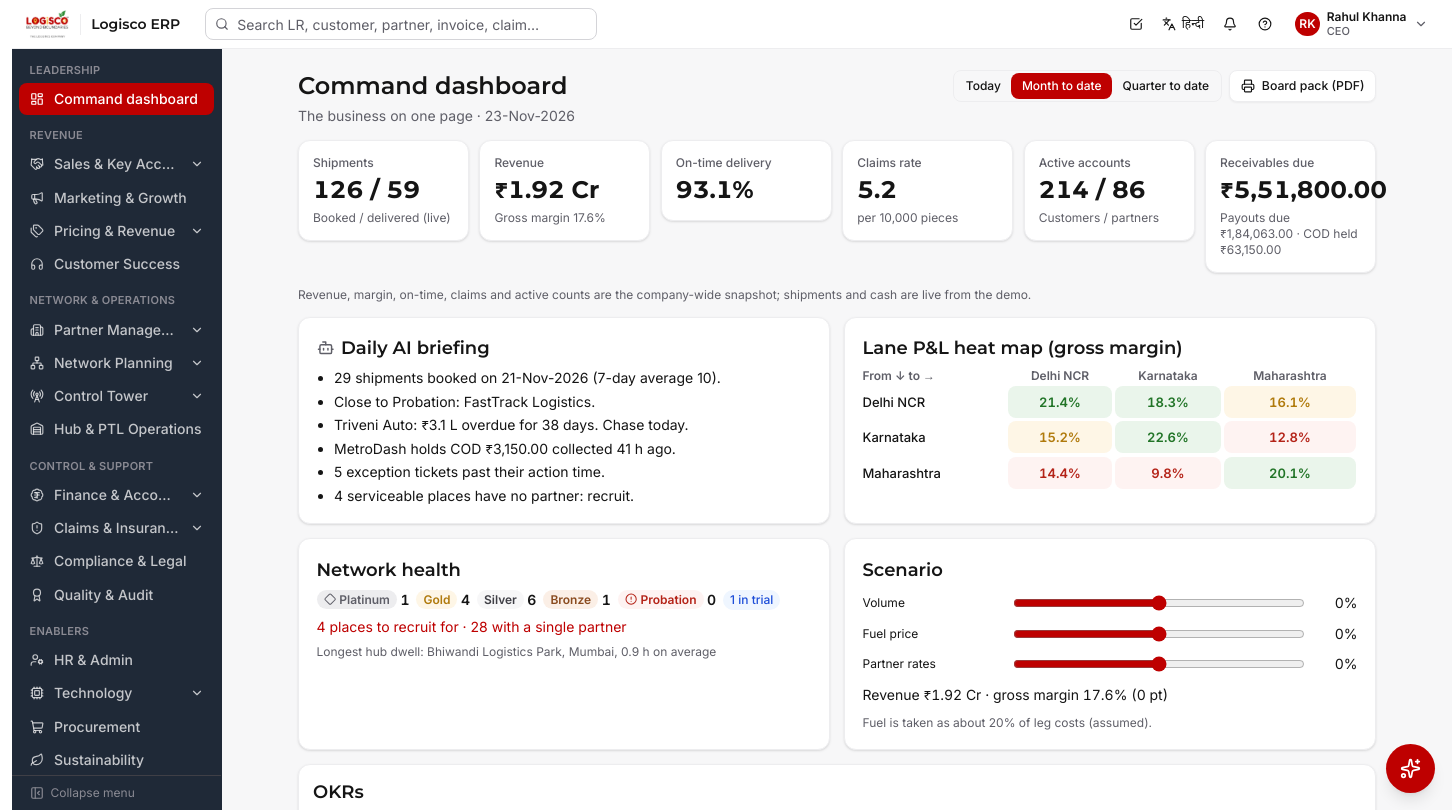
Test case: Leadership, Sales and the light departments › ERP-04: Rahul lands on the command dashboard; snapshot tiles, briefing, heat map, scenario
The width and height of the screenshot is (1452, 810).
expect the heading "Command dashboard" is shown: met, box x1=298 y1=70 x2=575 y2=102
expect the element with test id "kpis" shows "₹1.92 Cr": met, box x1=479 y1=140 x2=650 y2=272
Set the slider labelled "Fuel price" to "5" at (1194, 634), box x1=1013 y1=626 x2=1305 y2=642
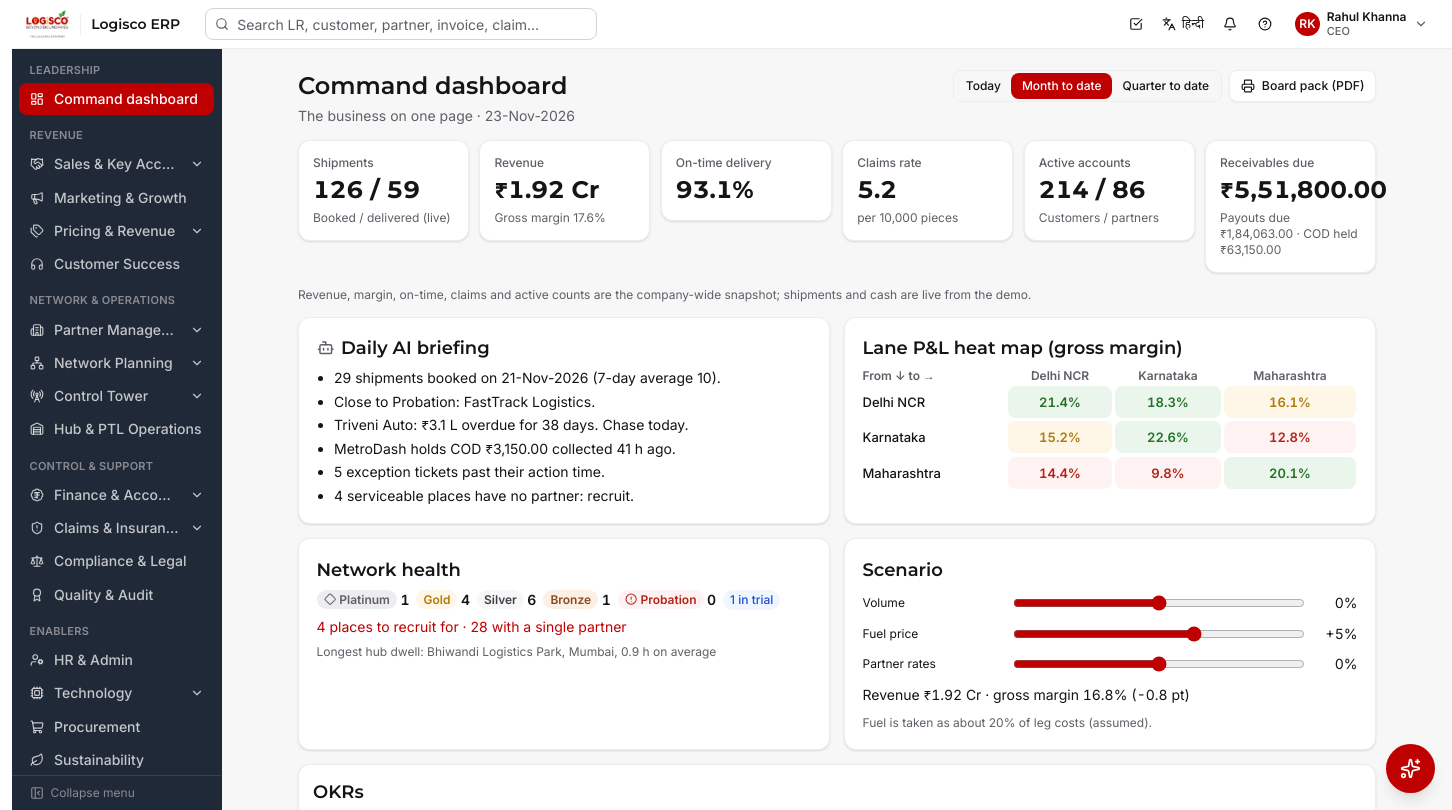
expect the text with test id "scenario-result" shows "gross margin 16.8% (-0.8 pt)": met, box x1=862 y1=686 x2=1190 y2=702
Click the tab "Quarter to date" at (1166, 86), box x1=1112 y1=73 x2=1220 y2=99
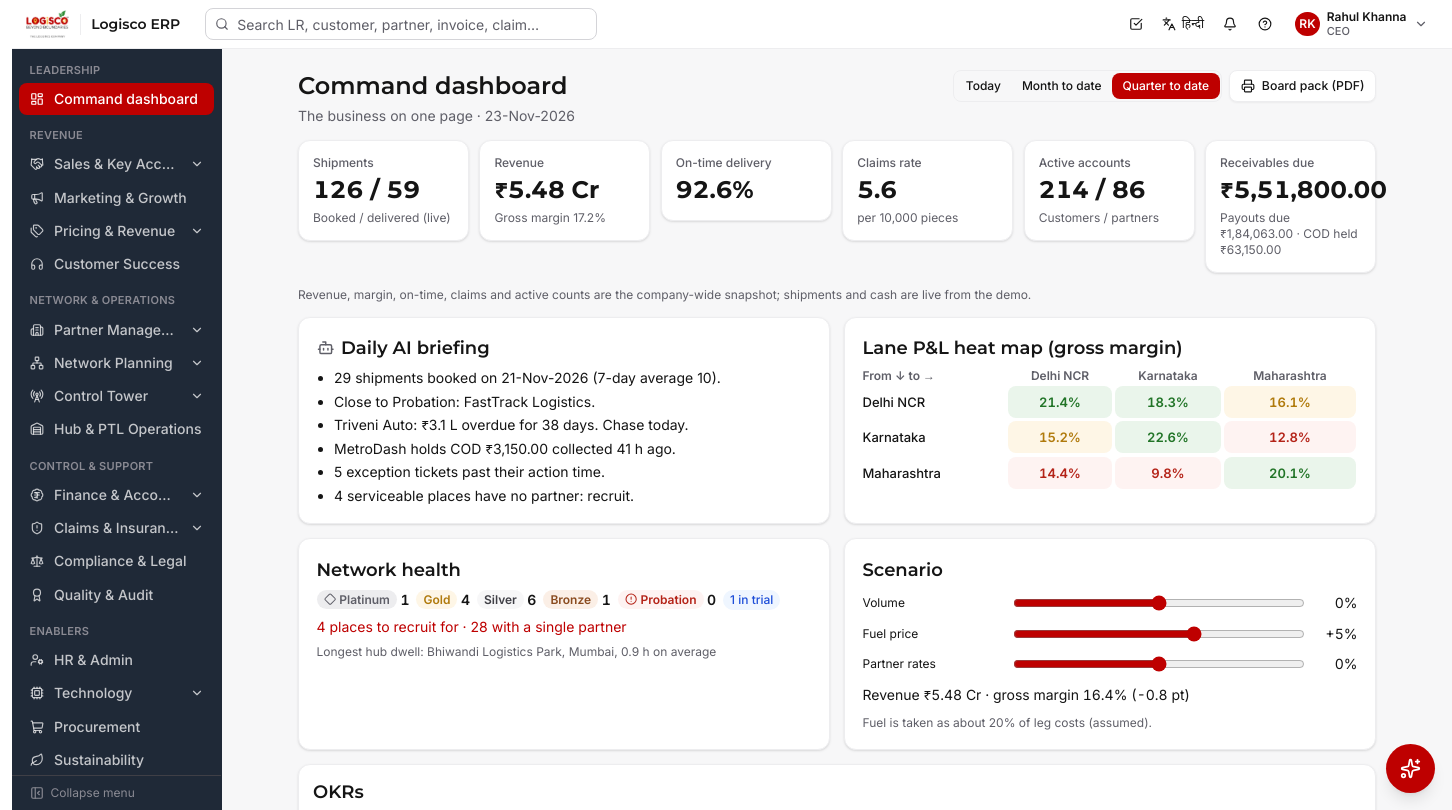
expect the element with test id "kpis" shows "₹5.48 Cr": met, box x1=479 y1=140 x2=650 y2=272
